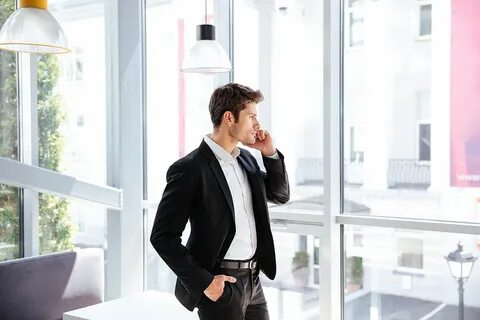awake: (148, 81, 293, 320)
